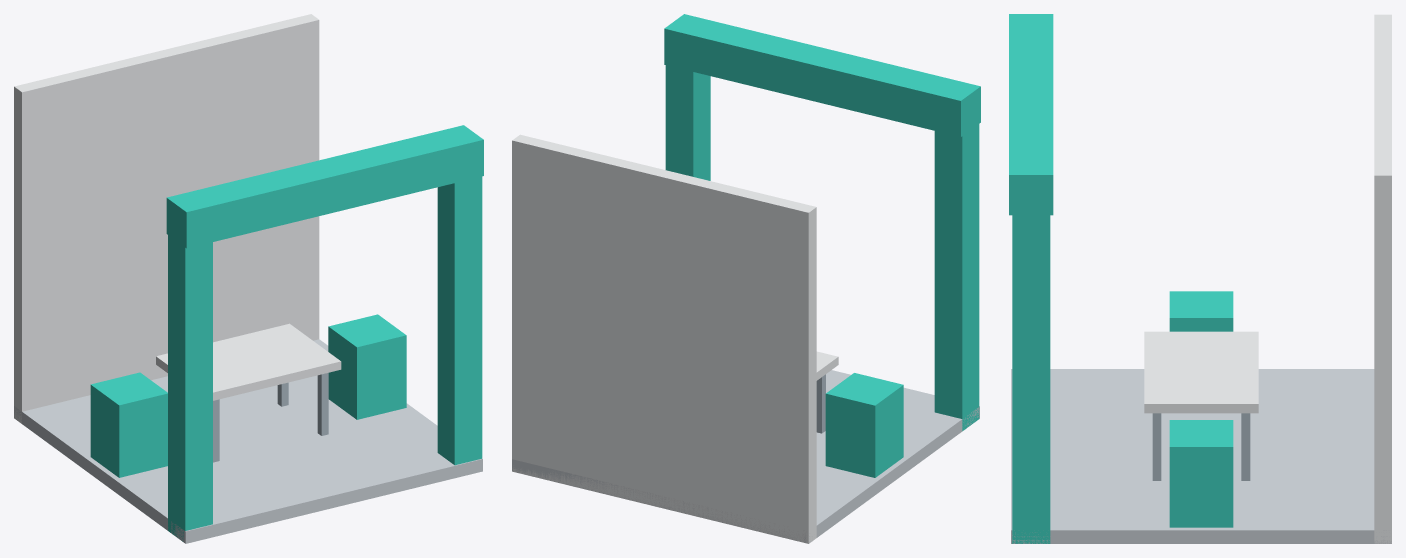
The picture shows the model from 3 angles, left to right: view 1: azimuth 30°, elevation 25°; view 2: azimuth 150°, elevation 25°; view 3: azimuth 270°, elevation 25°; orthographic projection. The views are drawn at different scales.
Visible parts, largest first — view 1: Exhibition Booth Concept; view 2: Exhibition Booth Concept; view 3: Exhibition Booth Concept.
Boxes of the visible parts, x1,y1,x2,y2 form: Exhibition Booth Concept: [14, 14, 483, 543]; Exhibition Booth Concept: [512, 14, 980, 543]; Exhibition Booth Concept: [1009, 14, 1391, 543].
Bounding box in the file's own units: 3 × 3.2 × 3.01.
